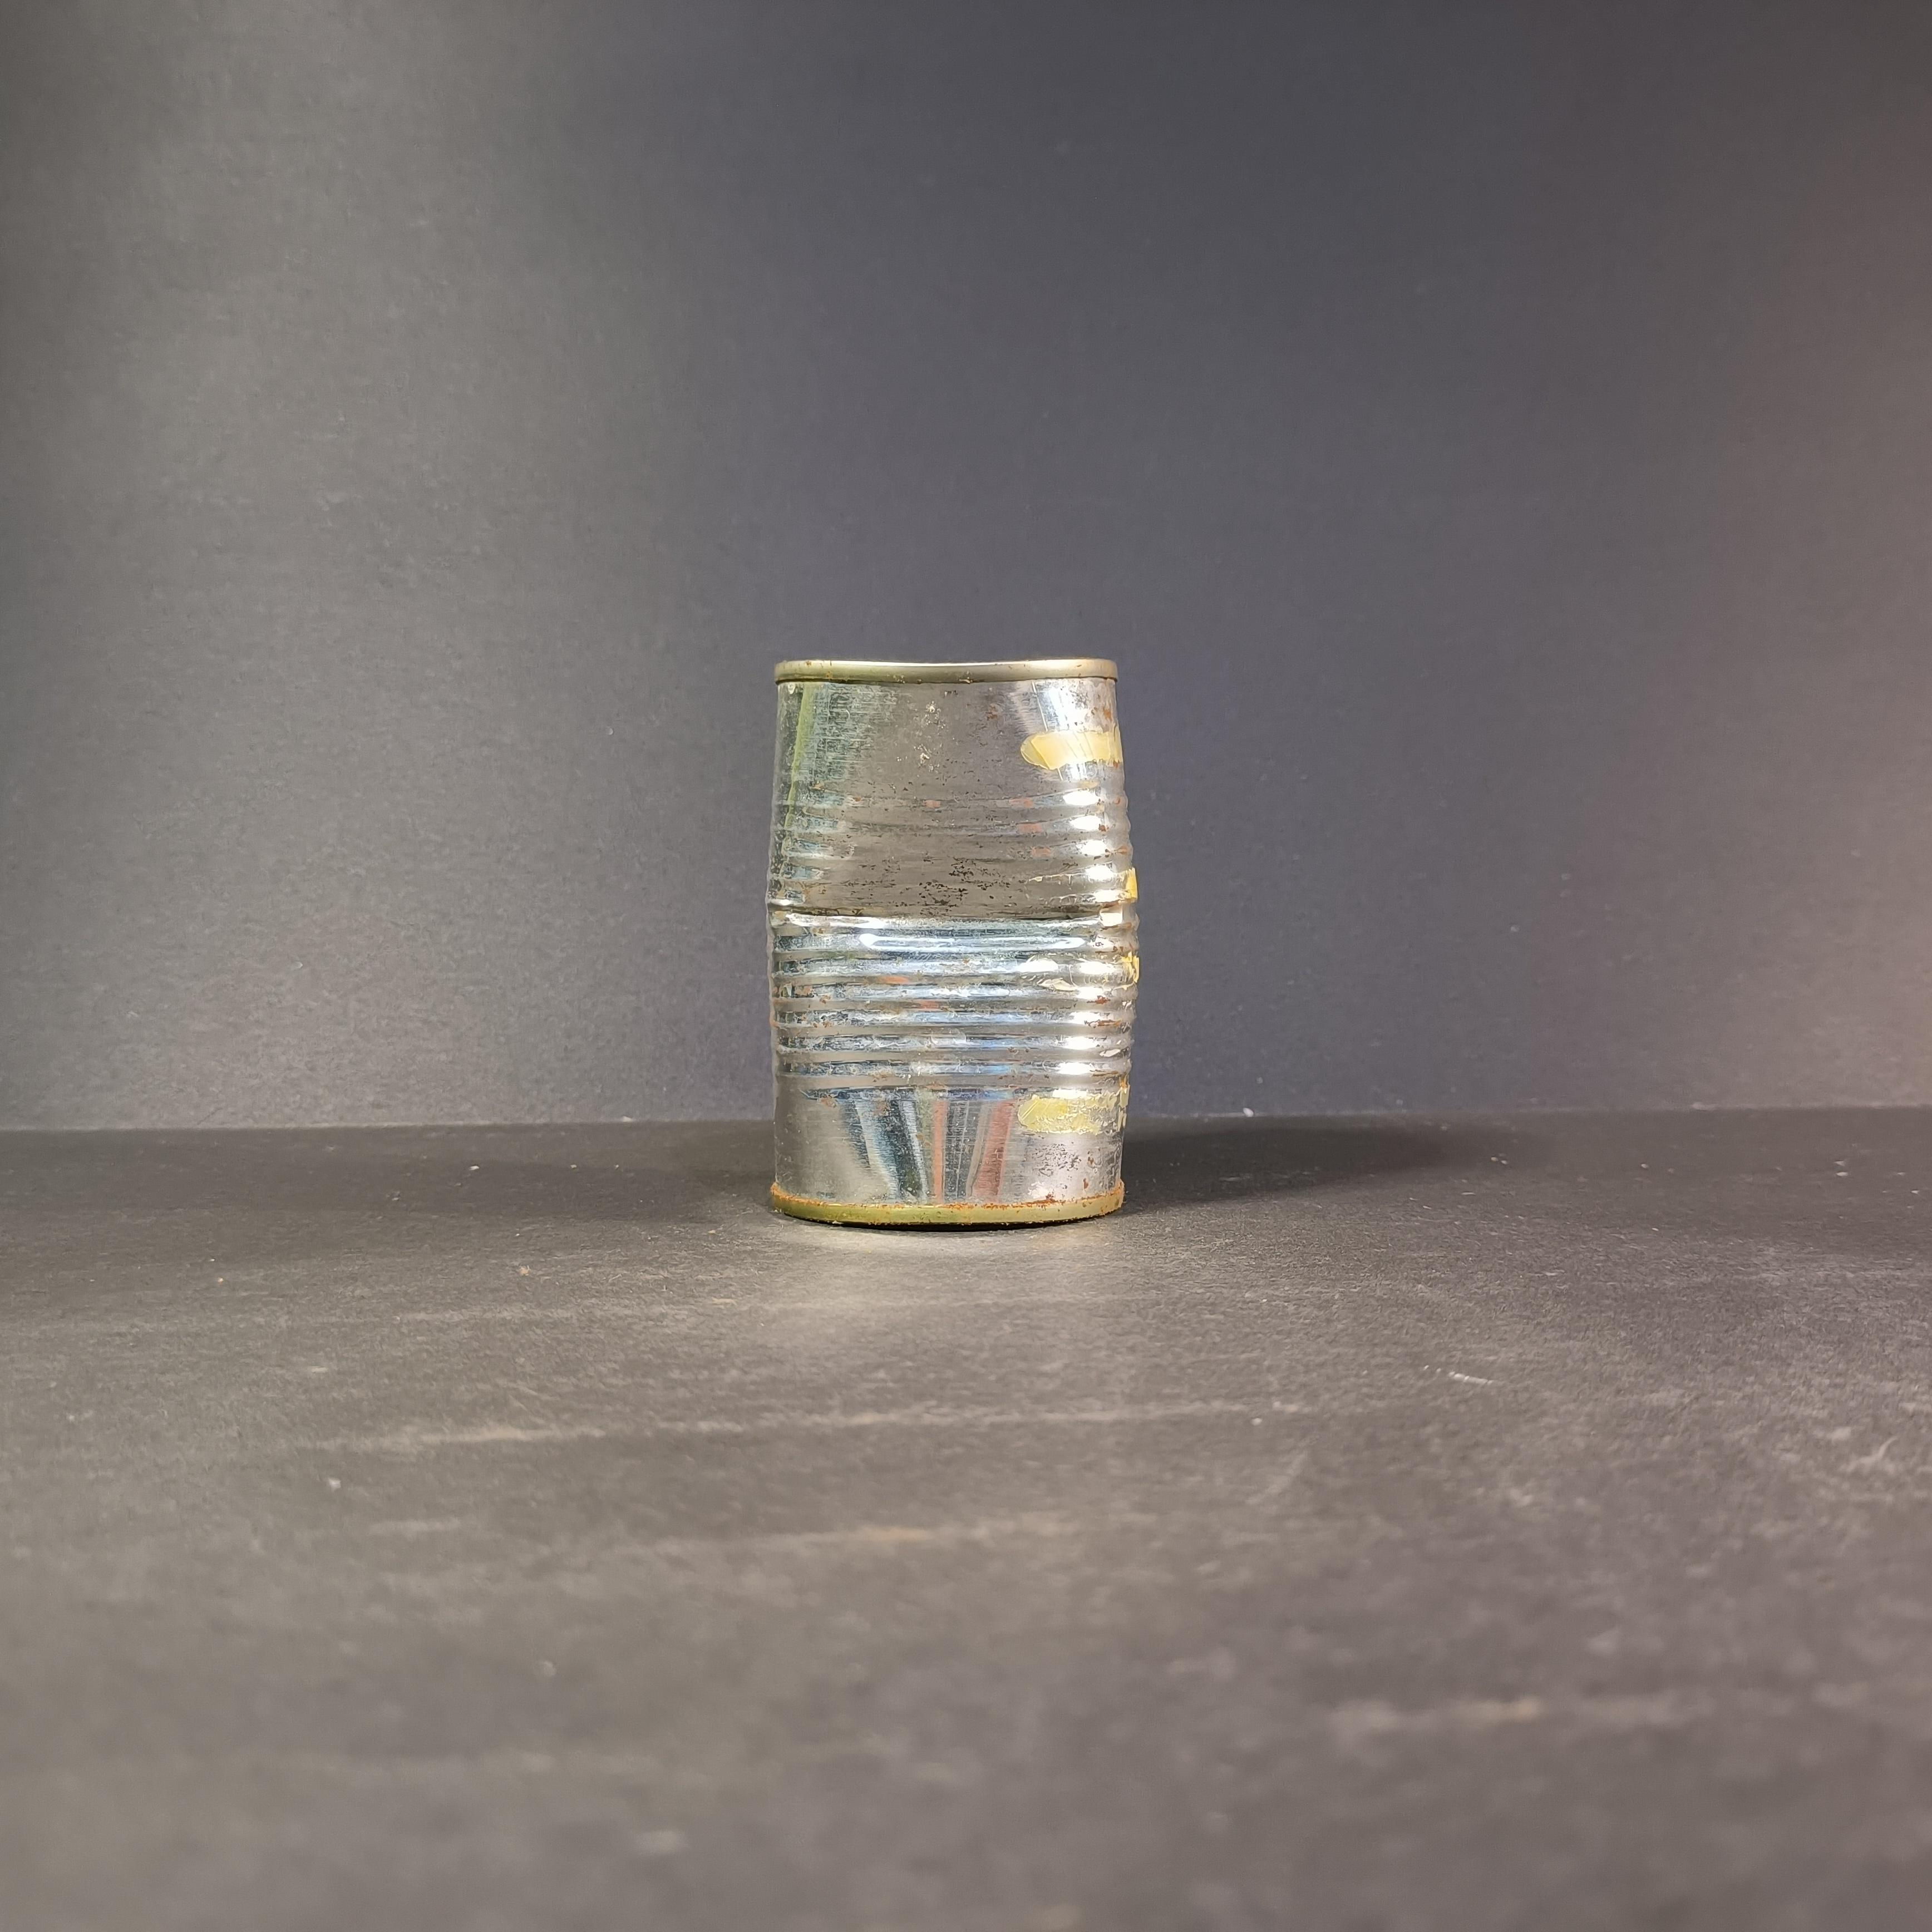Dented: (754, 635, 1152, 1244)
